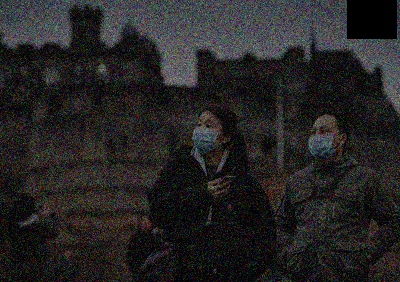with_mask: (307, 123, 340, 161), (191, 117, 222, 154)
without_mask: (139, 213, 153, 231)
